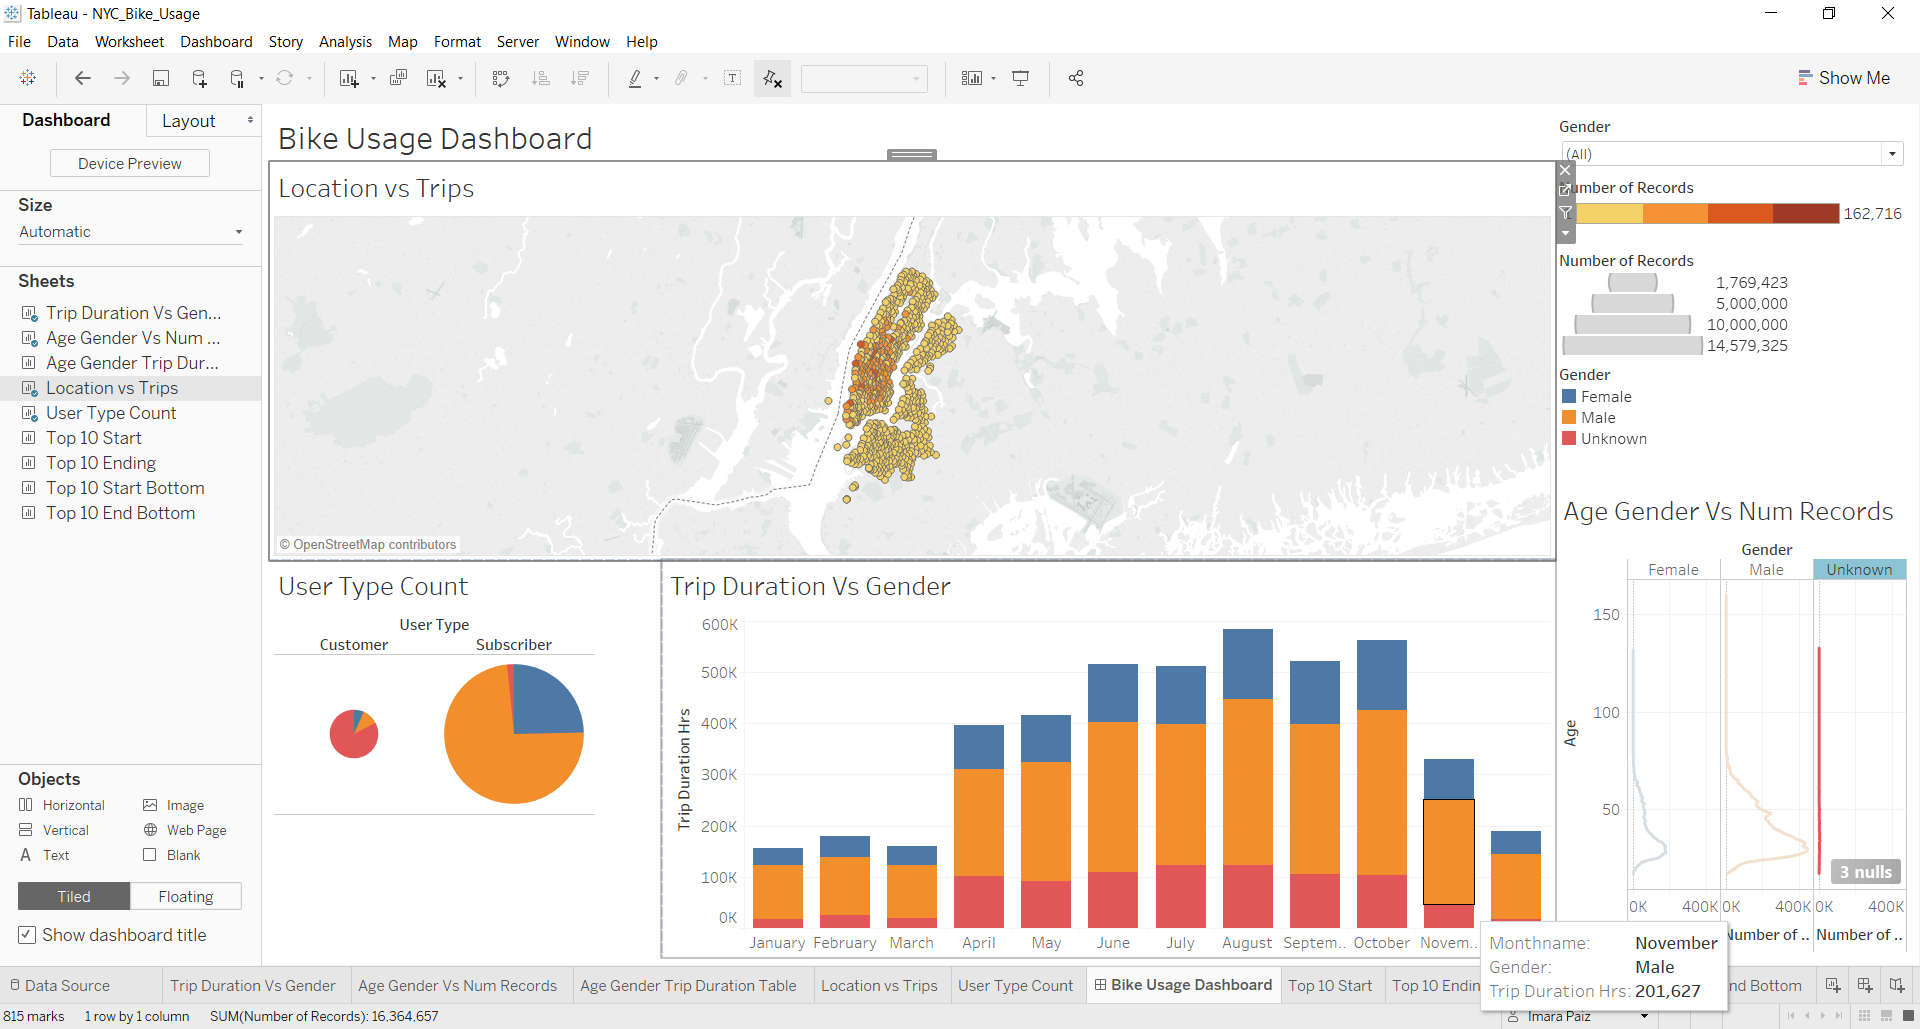

What the dashboard file says about the page in this screenshot:
{"tool":"tableau","page":{"name":"Bike Usage Dashboard","canvas":[1000,1000],"units":"permille","ordinal":0},"visuals":[{"type":"title","box":[5.3,10.1,752,63]},{"type":"filter","title":"Location vs Trips","param":"[federated.0uuww2713do2zb1elkszp1g9v9bc].[none:Gender:nk]","box":[757.3,10.1,237.3,76.8]},{"type":"worksheet","title":"Location vs Trips","mark":"Multipolygon","rows":["Start Station Latitude"],"cols":["Start Station Longitude"],"box":[5.3,73.1,752,458.4]},{"type":"legend","title":"Location vs Trips","param":"[federated.0uuww2713do2zb1elkszp1g9v9bc].[sum:Number of Records:qk]","box":[757.3,86.9,237.3,91.9]},{"type":"legend","title":"User Type Count","param":"[federated.0uuww2713do2zb1elkszp1g9v9bc].[sum:Number of Records:qk]","box":[757.3,178.8,237.3,143.6]},{"type":"legend","title":"Trip Duration Vs Gender","param":"[federated.0uuww2713do2zb1elkszp1g9v9bc].[none:Gender:nk]","box":[757.3,322.4,237.3,117.1]},{"type":"worksheet","title":"Age Gender Vs Num Records","mark":"Line","rows":["Calculation_170292412755480579"],"cols":["Gender","Number of Records"],"box":[757.3,442.1,237.3,547.9]},{"type":"worksheet","title":"User Type Count","mark":"Pie","cols":["User Type"],"box":[5.3,531.5,229.3,458.4]},{"type":"worksheet","title":"Trip Duration Vs Gender","mark":"Bar","rows":["Calculation_170292412774830087"],"cols":["Calculation_170292412743188480"],"box":[234.6,531.5,522.8,458.4]}]}

Visuals, with their boxes on the dashboard's canvas, which has no fixed pixel size, in thousandths of its width and height (x1, y1, x2, y2). These are canvas units, not pixel positions in the 1920x1029 screenshot, which may show the page scaled, cropped or inside an application window:
title: region(5, 10, 757, 73)
"Location vs Trips" filter: region(757, 10, 995, 87)
"Location vs Trips" worksheet (Multipolygon marks): region(5, 73, 757, 532)
"Location vs Trips" legend: region(757, 87, 995, 179)
"User Type Count" legend: region(757, 179, 995, 322)
"Trip Duration Vs Gender" legend: region(757, 322, 995, 440)
"Age Gender Vs Num Records" worksheet (Line marks): region(757, 442, 995, 990)
"User Type Count" worksheet (Pie marks): region(5, 532, 235, 990)
"Trip Duration Vs Gender" worksheet (Bar marks): region(235, 532, 757, 990)
